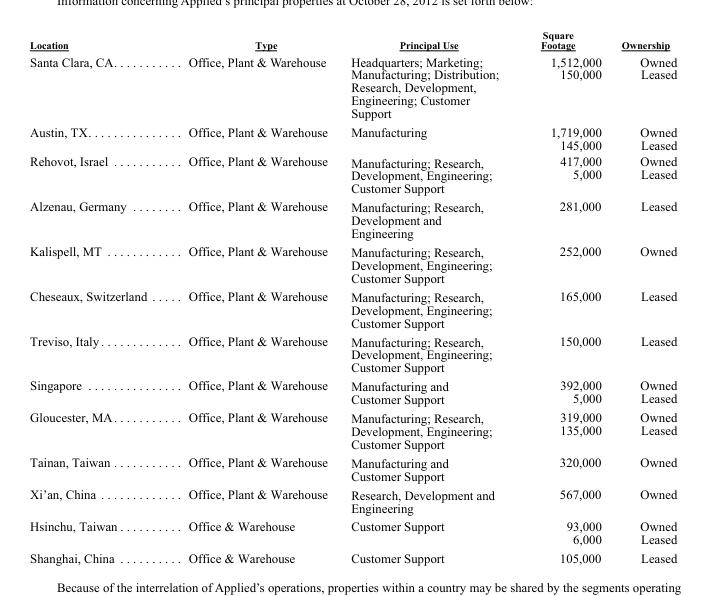table: (29, 28, 676, 564)
table column: (338, 28, 519, 564), (167, 28, 338, 564), (29, 28, 167, 564), (519, 28, 610, 564), (610, 28, 676, 564)
table column header: (29, 28, 676, 52)
table row: (29, 52, 676, 122), (29, 196, 676, 241), (29, 241, 676, 286), (29, 286, 676, 331), (29, 407, 676, 452), (29, 152, 676, 196), (29, 331, 676, 375), (29, 375, 676, 407), (29, 452, 676, 484), (29, 484, 676, 516), (29, 516, 676, 548), (29, 122, 676, 152), (29, 28, 676, 52), (29, 548, 676, 564)
